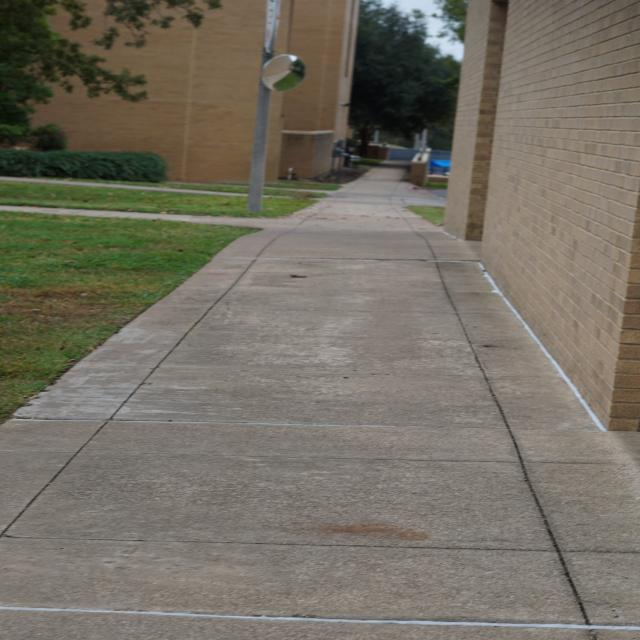Sidewalk: (0, 168, 640, 640), (0, 177, 229, 195)
